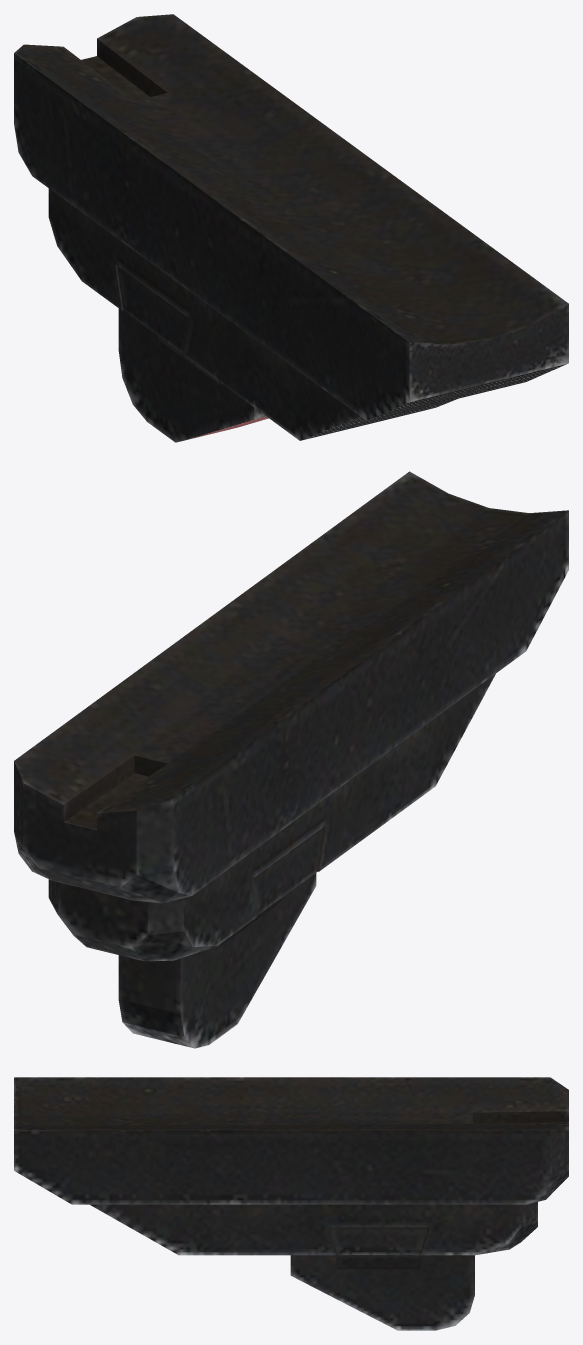
3 views of the same model, one above another, from view 1: azimuth 30°, elevation 25°; view 2: azimuth 150°, elevation 25°; view 3: azimuth 270°, elevation 25° (orthographic). The views are drawn at different scales.
Visible parts, largest first — view 1: TW_5e8708d4ae379e67d22e0102_PZ_Import; view 2: TW_5e8708d4ae379e67d22e0102_PZ_Import; view 3: TW_5e8708d4ae379e67d22e0102_PZ_Import.
Boxes of the visible parts, x1,y1,x2,y2 form: TW_5e8708d4ae379e67d22e0102_PZ_Import: (14, 14, 568, 442); TW_5e8708d4ae379e67d22e0102_PZ_Import: (14, 471, 568, 1048); TW_5e8708d4ae379e67d22e0102_PZ_Import: (14, 1077, 568, 1330).
Bounding box in the file's own units: 0.00567 × 0.0252 × 0.0108.
Materials: 1 (1 with a texture image).
